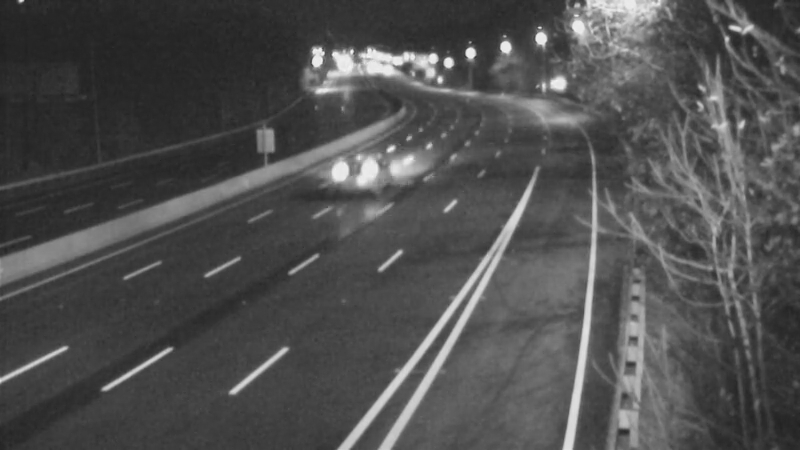vehicle: (318, 129, 398, 209)
